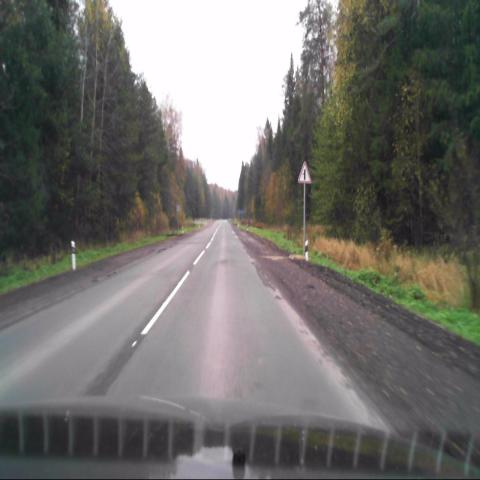2_3_3: (298, 161, 312, 182)
